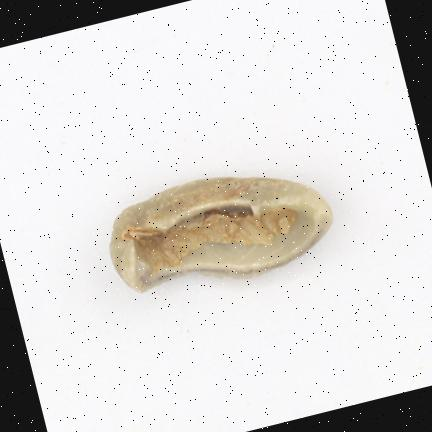shell: (110, 177, 331, 291)
